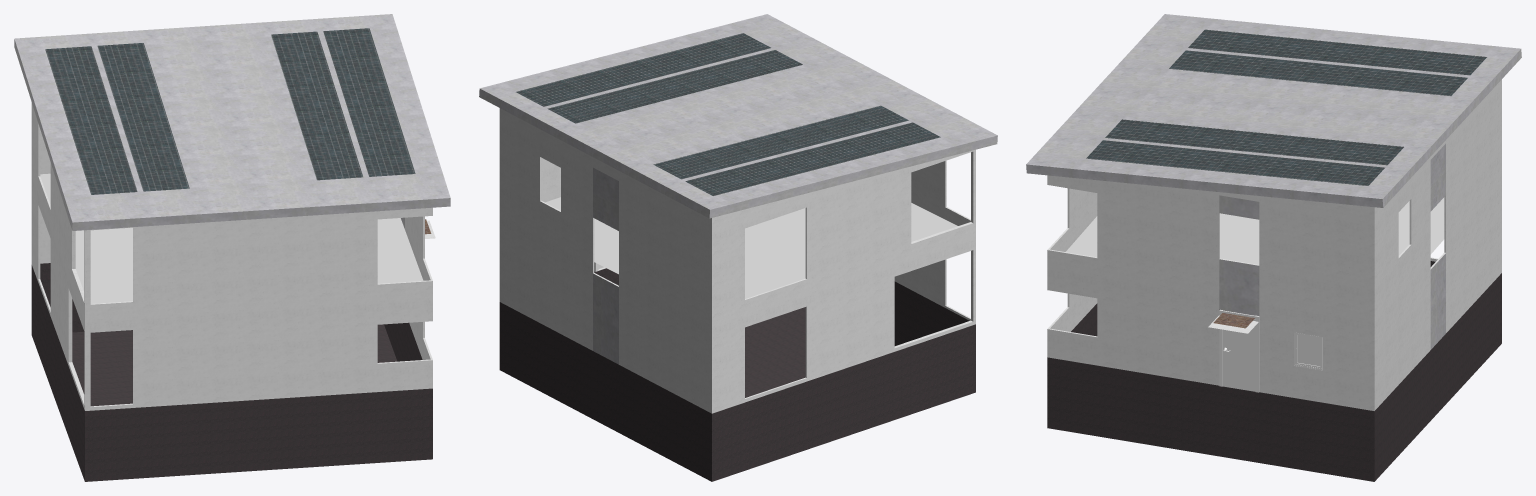
3 views of the same model, side by side, from view 1: azimuth 30°, elevation 25°; view 2: azimuth 150°, elevation 25°; view 3: azimuth 270°, elevation 25° (orthographic). The views are drawn at different scales.
Parts seen in each view (by area): view 1: Mesh 67, Mesh 58, Mesh 32.001, Mesh 75, Plane; view 2: Mesh 67, Mesh 58, Mesh 32.001, Mesh 75, Plane; view 3: Mesh 67, Mesh 58, Mesh 32.001, Mesh 75, Plane, Door, Window.L, DoorFrame.
Part boxes in pixels (left/top/right/bottom): Mesh 67: left=31, top=103, right=435, bottom=410; Mesh 58: left=14, top=14, right=450, bottom=230; Mesh 32.001: left=31, top=263, right=432, bottom=481; Mesh 75: left=45, top=28, right=415, bottom=194; Plane: left=40, top=173, right=423, bottom=303; Mesh 67: left=499, top=108, right=975, bottom=413; Mesh 58: left=479, top=14, right=997, bottom=364; Mesh 32.001: left=499, top=268, right=975, bottom=481; Mesh 75: left=516, top=33, right=940, bottom=195; Plane: left=545, top=197, right=957, bottom=298; Mesh 67: left=1047, top=79, right=1501, bottom=410; Mesh 58: left=1026, top=14, right=1521, bottom=349; Mesh 32.001: left=1047, top=261, right=1501, bottom=481; Mesh 75: left=1086, top=29, right=1486, bottom=185; Plane: left=1066, top=197, right=1444, bottom=264; Door: left=1222, top=319, right=1255, bottom=391; Window.L: left=1295, top=334, right=1321, bottom=368; DoorFrame: left=1219, top=309, right=1259, bottom=392.
Bounding box in the file's own units: 12.68 × 8.22 × 12.7.
11 materials, 6 textured.
